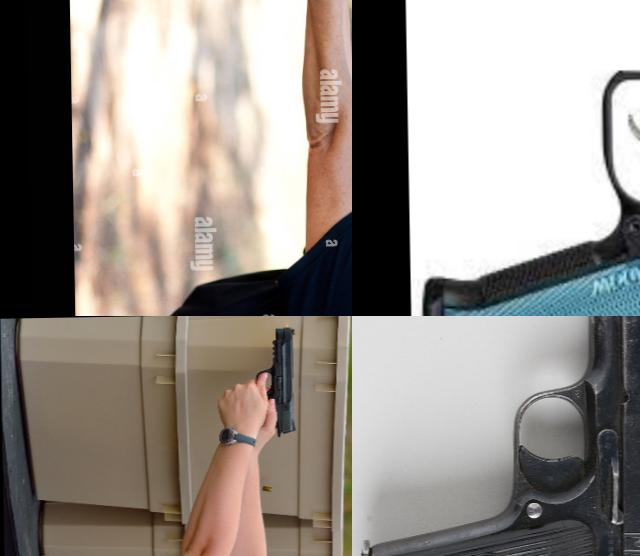handgun: (404, 0, 640, 316), (352, 316, 640, 556), (248, 322, 300, 440), (285, 0, 352, 68)
